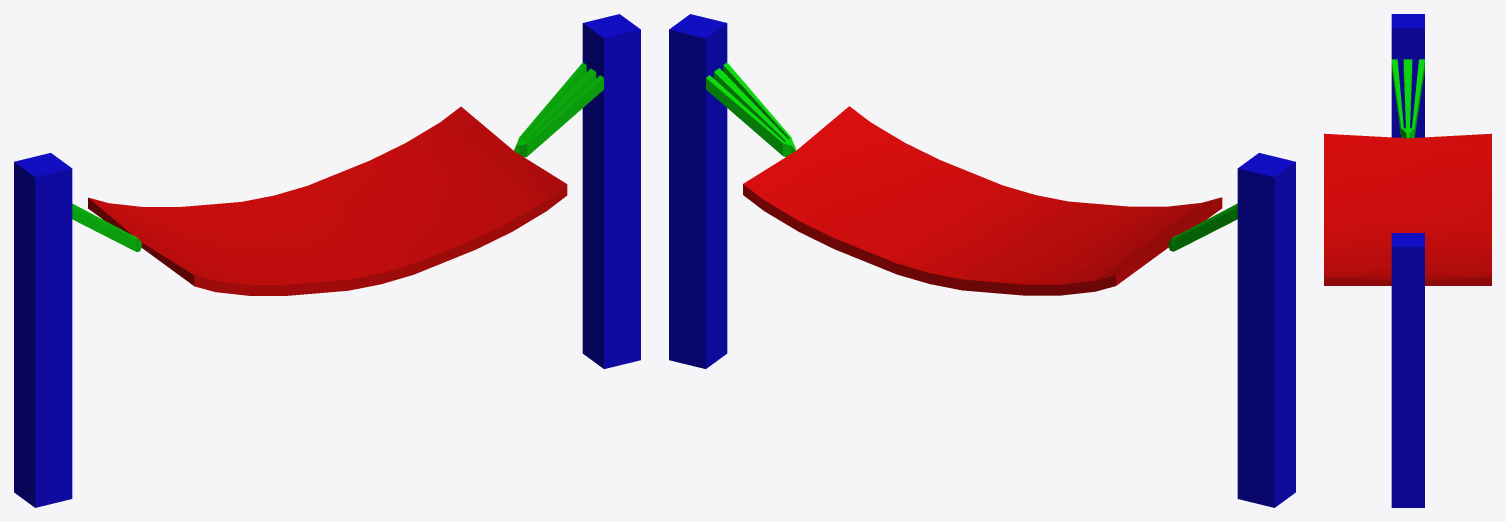
File: hamaca.fbx
The picture shows the model from 3 angles, left to right: view 1: azimuth 30°, elevation 25°; view 2: azimuth 150°, elevation 25°; view 3: azimuth 270°, elevation 25°; orthographic projection. The views are drawn at different scales.
Visible parts, largest first — view 1: Hamaca; view 2: Hamaca; view 3: Hamaca.
Boxes of the visible parts, left/top/right/bottom form: Hamaca: left=14, top=14, right=640, bottom=507; Hamaca: left=669, top=14, right=1295, bottom=507; Hamaca: left=1324, top=14, right=1491, bottom=507.
Size of the model in its own units: 11.23 by 5.86 by 3.42.
